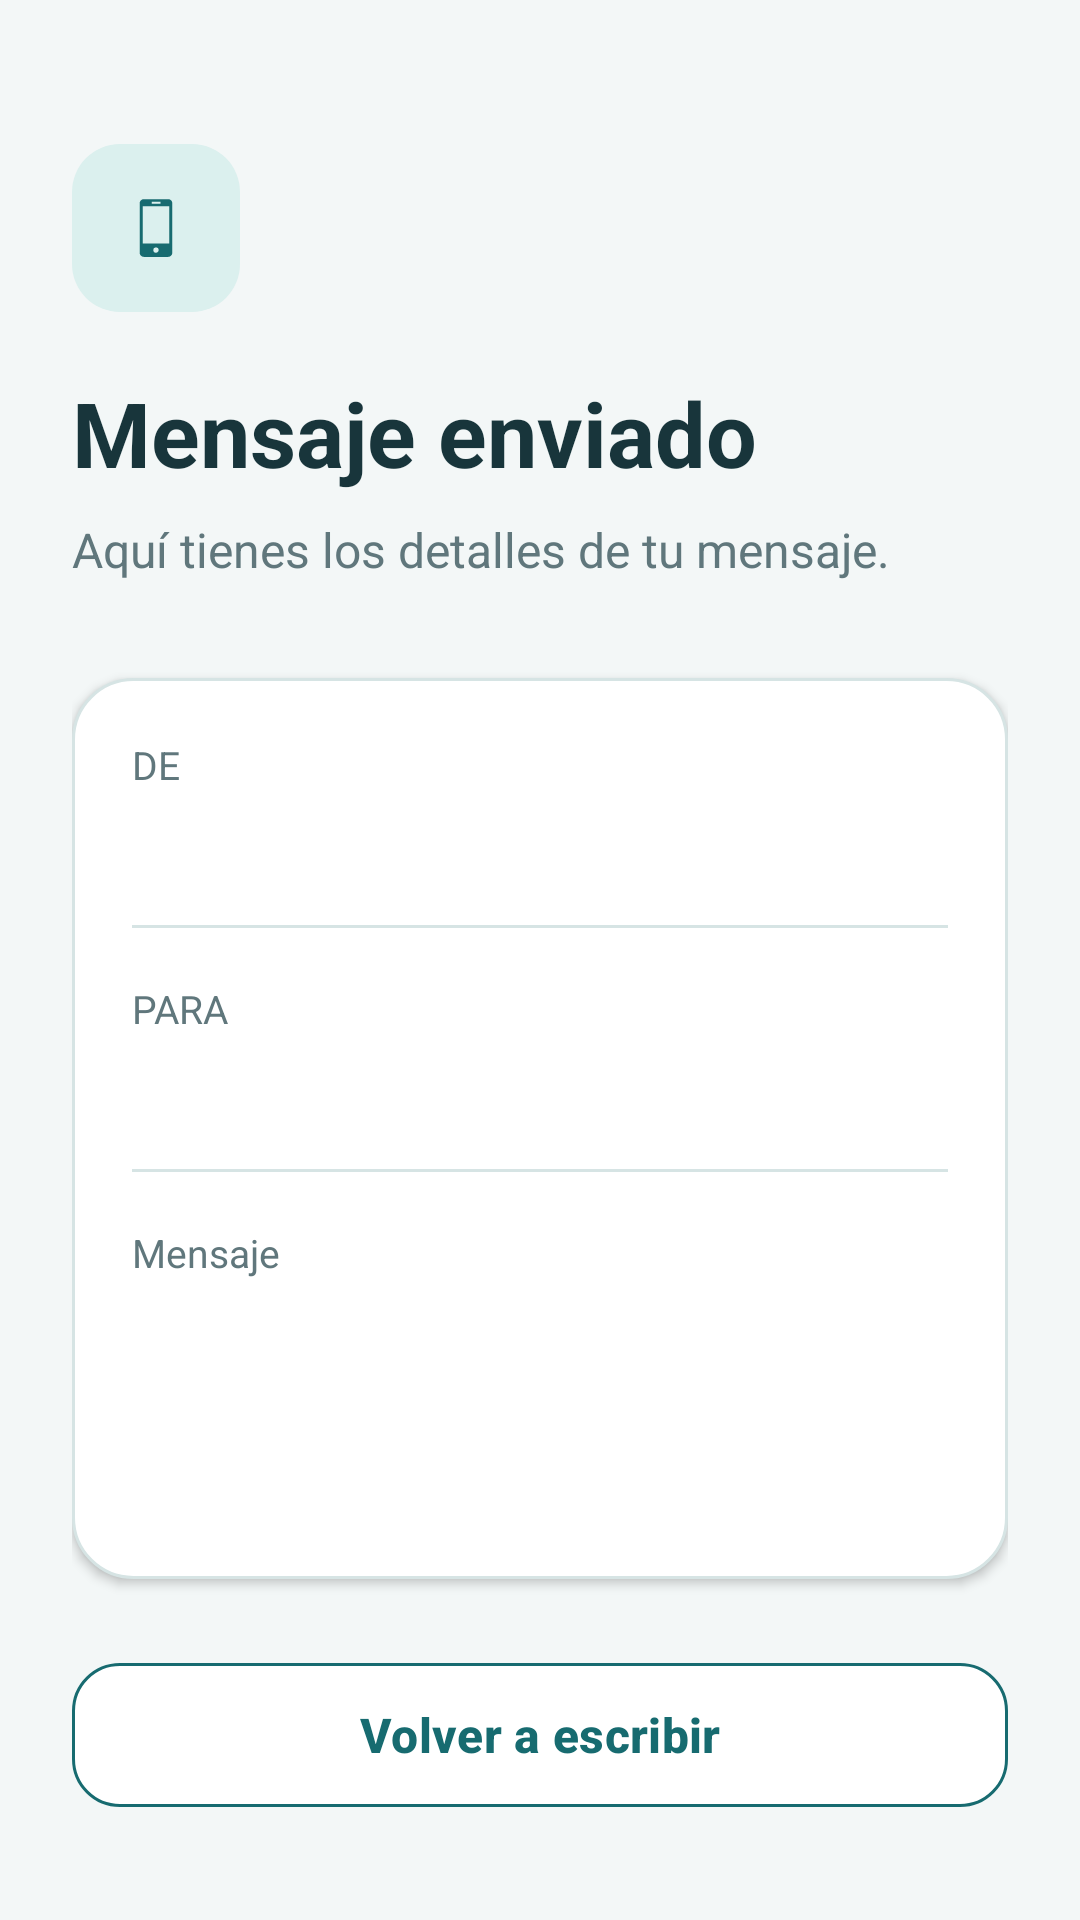

Screen size 1080*1920. Icon name, then its center in pixels as (x=x, y=y):
Movil: (x=156, y=228)
